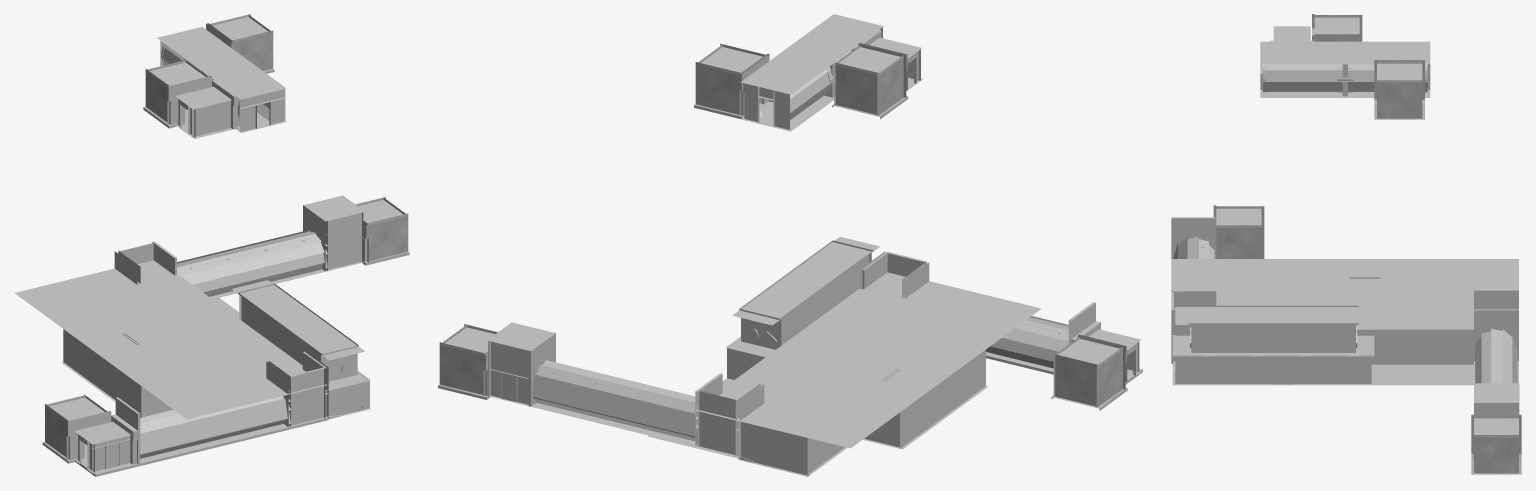
The model's file is cont2_049.fbx.
3 renders of one model, left to right at view 1: azimuth 30°, elevation 25°; view 2: azimuth 150°, elevation 25°; view 3: azimuth 270°, elevation 25°, orthographic. The views are drawn at different scales.
Visible parts, largest first — view 1: concretefloor, dirtymetal.001, concretefloor.001, metalpanels, metal, ctwalls, concretewall, metal3; view 2: concretefloor, dirtymetal.001, metal, metalpanels, concretefloor.001, metal3, concretewall, ctwalls; view 3: concretefloor, dirtymetal.001, concretefloor.001, metalpanels, metal, metal3.
Part boxes in pixels (box(x1,y1,x2,y2)): concretefloor: box(14, 14, 405, 476); dirtymetal.001: box(49, 17, 403, 459); concretefloor.001: box(231, 280, 364, 389); metalpanels: box(54, 58, 367, 464); metal: box(43, 14, 408, 459); ctwalls: box(74, 86, 231, 473); concretewall: box(160, 41, 285, 131); metal3: box(42, 68, 409, 463); concretefloor: box(442, 37, 1142, 475); dirtymetal.001: box(445, 14, 1126, 447); metal: box(438, 43, 1126, 407); metalpanels: box(722, 29, 1100, 476); concretefloor.001: box(732, 236, 879, 356); metal3: box(438, 77, 1127, 410); concretewall: box(744, 27, 883, 129); ctwalls: box(906, 49, 1141, 382); concretefloor: box(1171, 15, 1519, 437); dirtymetal.001: box(1173, 17, 1521, 460); concretefloor.001: box(1175, 305, 1371, 353); metalpanels: box(1175, 40, 1518, 383); metal: box(1213, 14, 1521, 474); metal3: box(1260, 90, 1521, 474).
Bounding box in the file's own units: 65.82 × 40.96 × 42.25.
